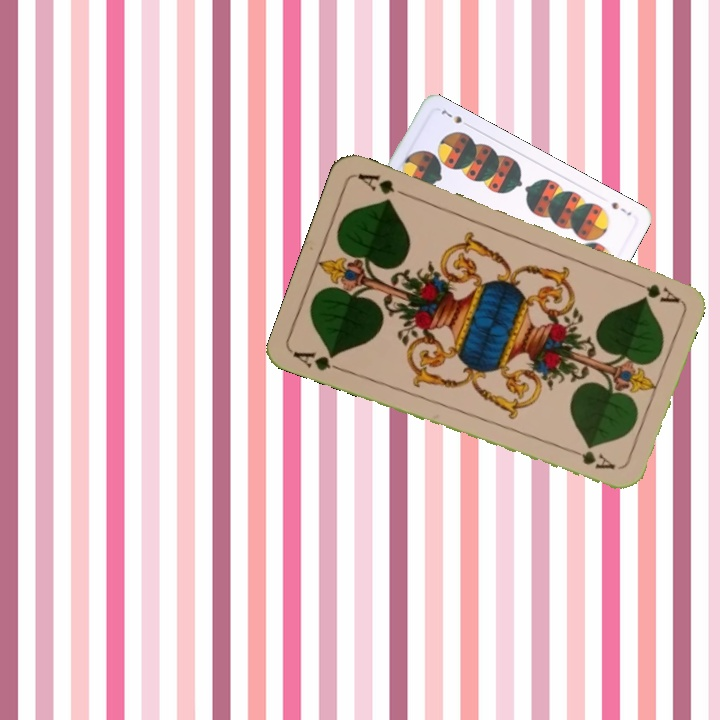GA: (625, 274, 682, 306), (289, 347, 347, 375)
S7: (607, 198, 634, 218)
